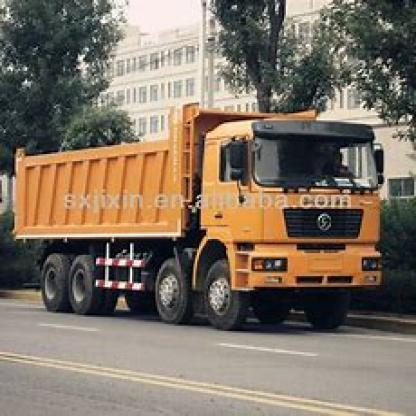dump_truck: (18, 103, 412, 347)
